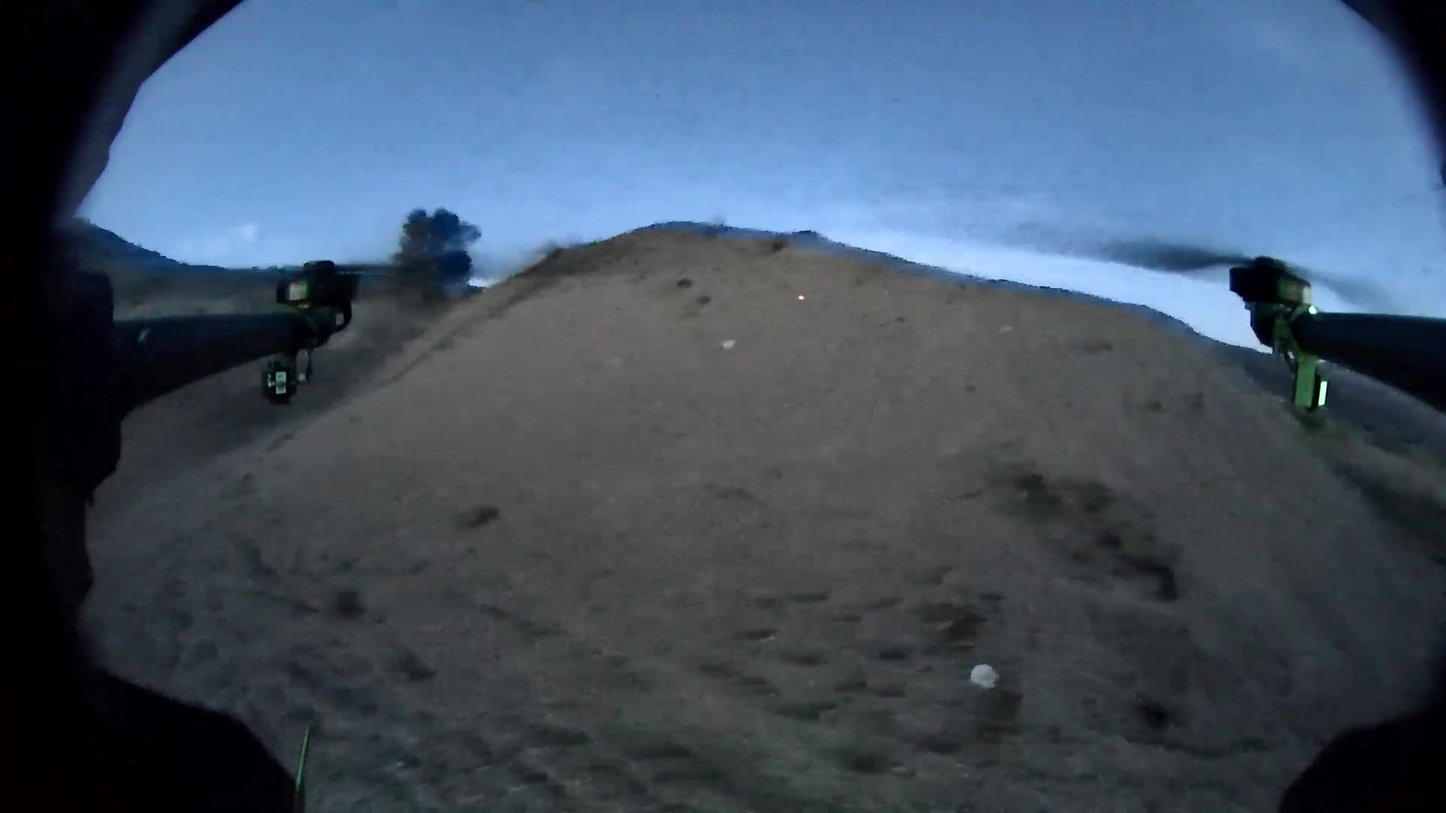Target: (972, 662, 1000, 690)
